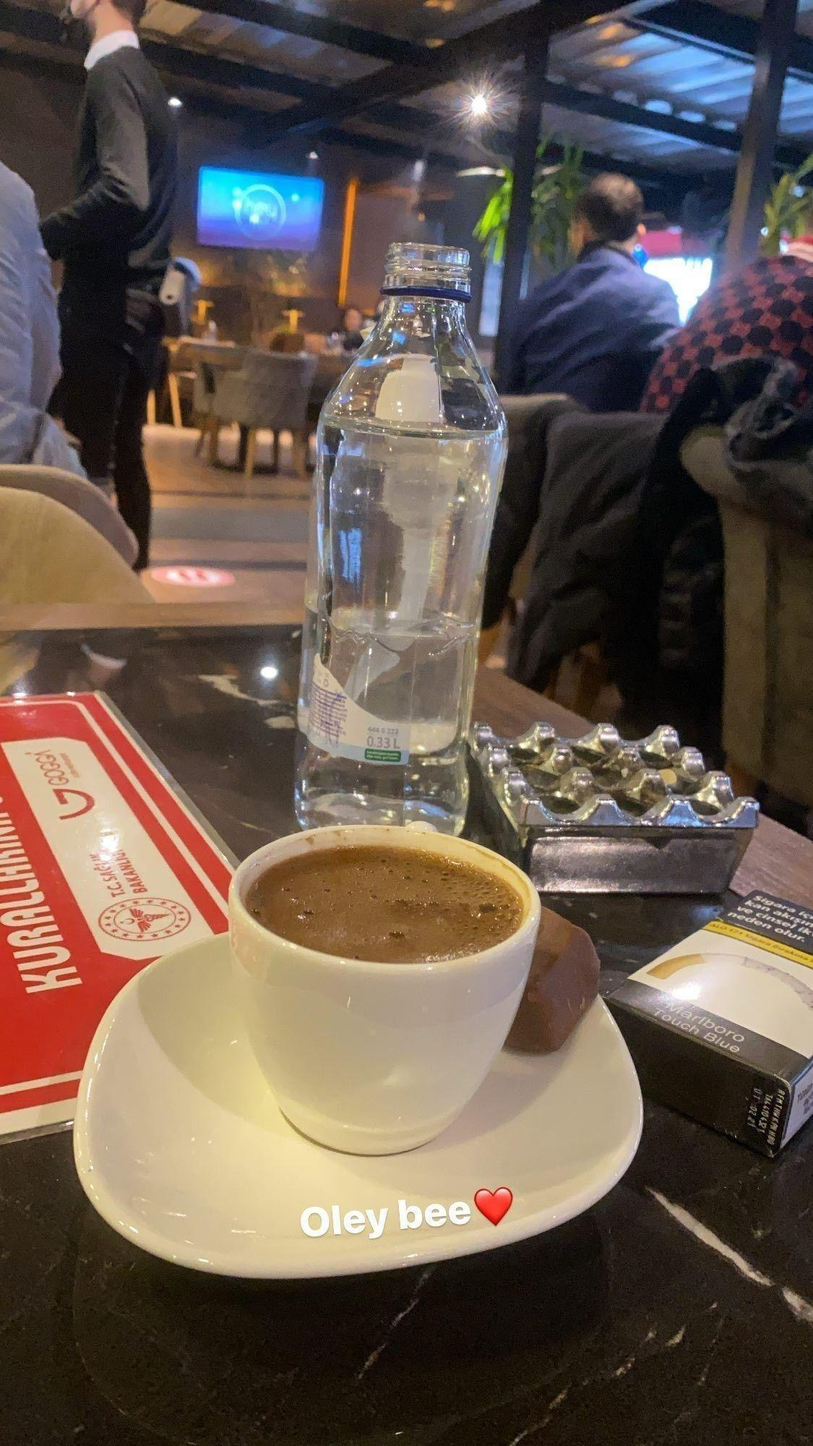bottle-glass: (292, 239, 511, 841)
cup-handle: (225, 822, 542, 1156)
